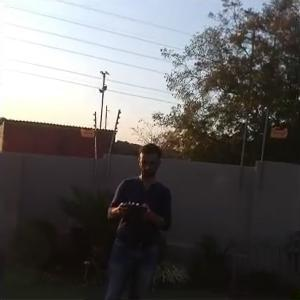follow: (97, 136, 185, 299)
